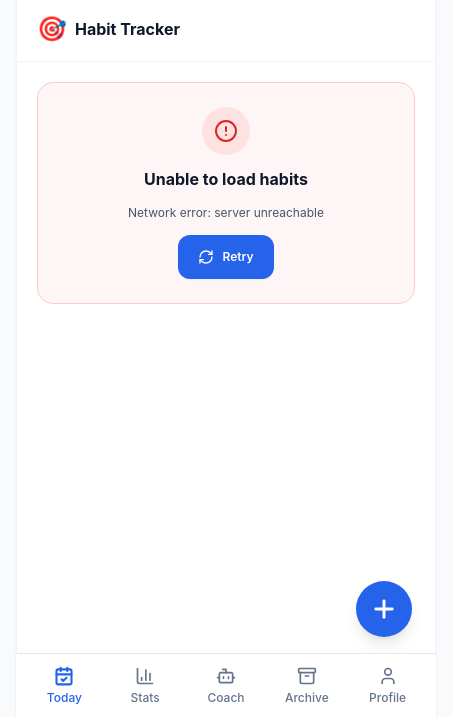
Test: DashboardPage Mobile View › renders error state with retry button when fetching habits fails
Expected: the heading "Unable to load habits" is shown, [144,169,308,189]
Expected: the text "Network error: server unreachable" is shown, [128,205,324,220]
Click the button "Retry": (226,256) [178,234,274,278]
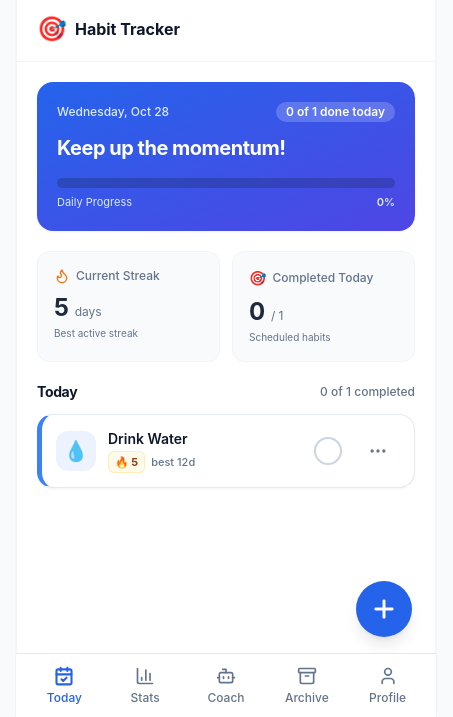
Expected: the heading "Drink Water" is shown, [108,430,188,446]
